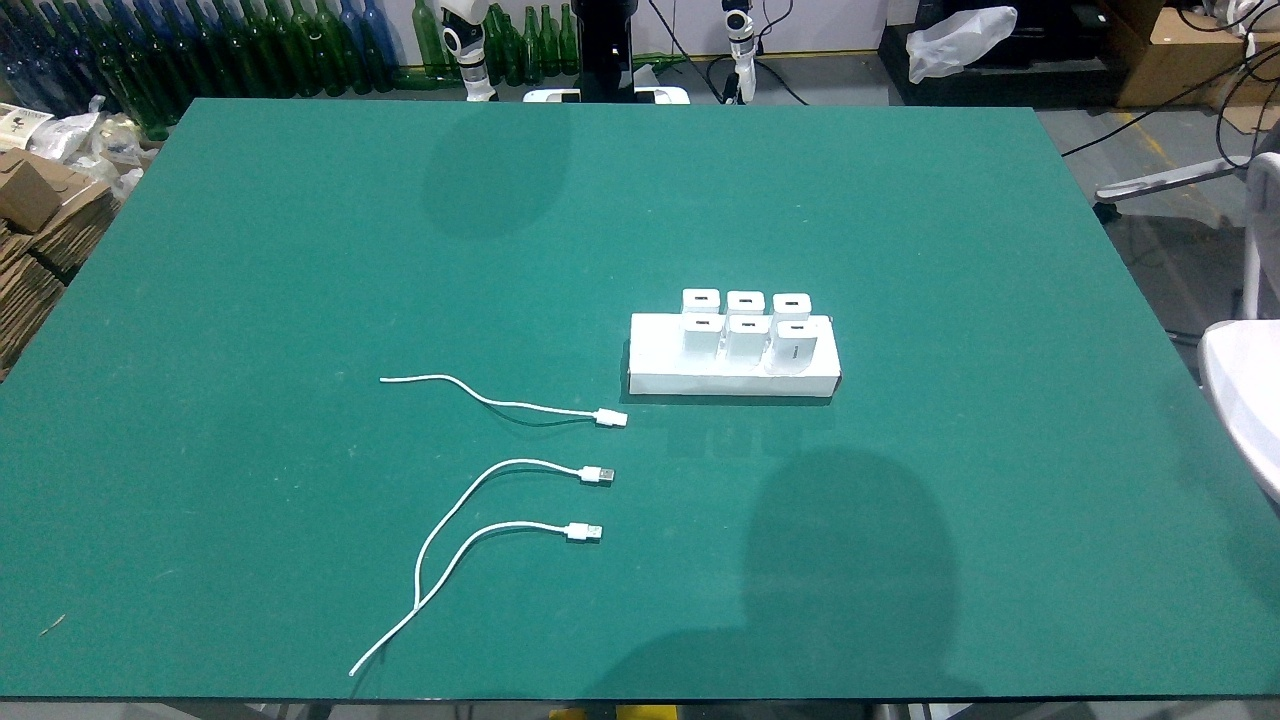usb_a_port: (741, 317, 761, 329), (694, 317, 713, 329), (692, 293, 713, 303), (783, 299, 801, 309), (789, 322, 806, 332), (738, 295, 754, 305)
